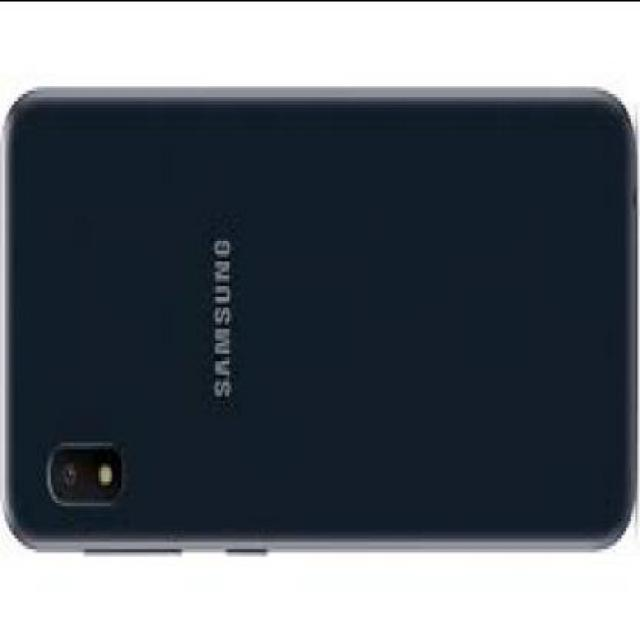phone: (2, 86, 636, 552)
